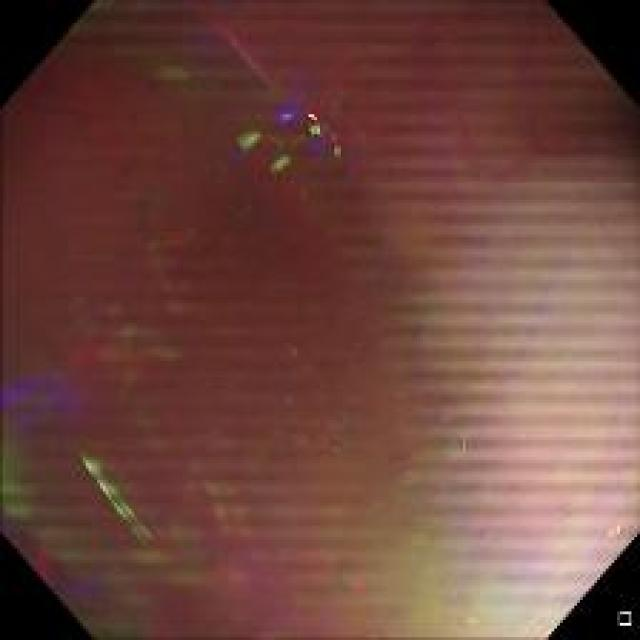color misalignment: (9, 6, 625, 626), (14, 314, 458, 632), (230, 66, 358, 176), (61, 441, 176, 551)
